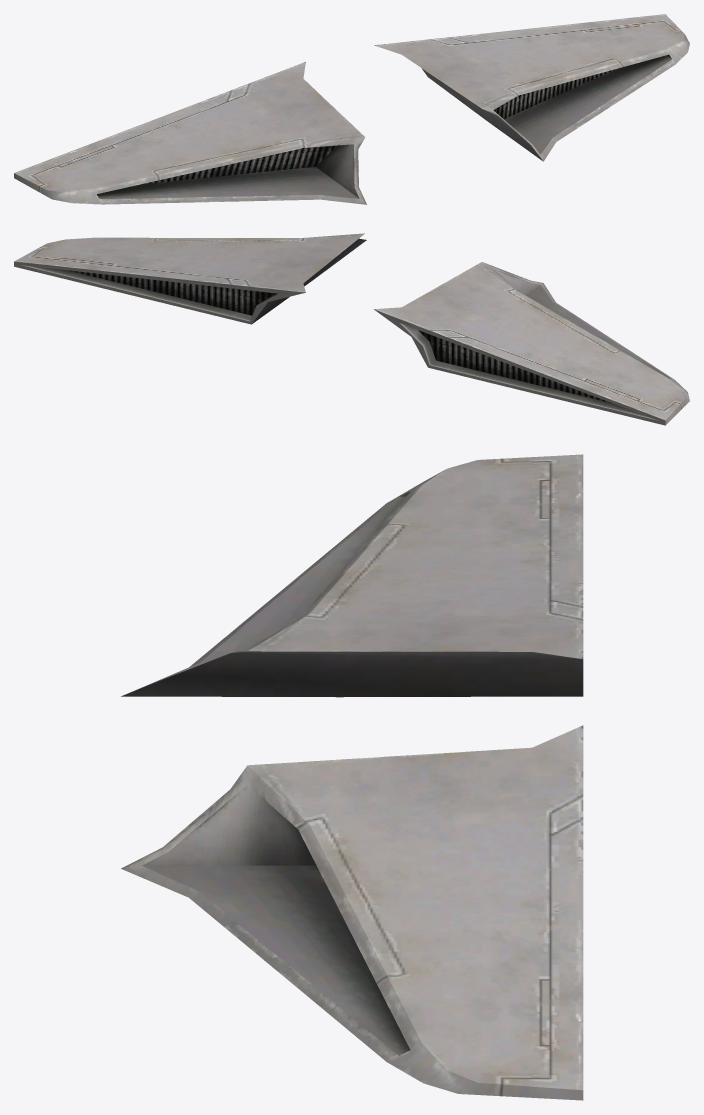
The model's file is hutt_fighter_heavy_struct_s01_l1.fbx.
3 views of the same model, one above another, from view 1: azimuth 30°, elevation 25°; view 2: azimuth 150°, elevation 25°; view 3: azimuth 270°, elevation 25° (orthographic). The views are drawn at different scales.
Parts seen in each view (by area): view 1: mesh_node; view 2: mesh_node; view 3: mesh_node.
Boxes of the visible parts, x1=… form: mesh_node: x1=14, y1=14, x2=689, y2=204; mesh_node: x1=14, y1=233, x2=689, y2=425; mesh_node: x1=121, y1=454, x2=583, y2=1100.
Bounding box in the file's own units: 28.24 × 1.87 × 8.68.
